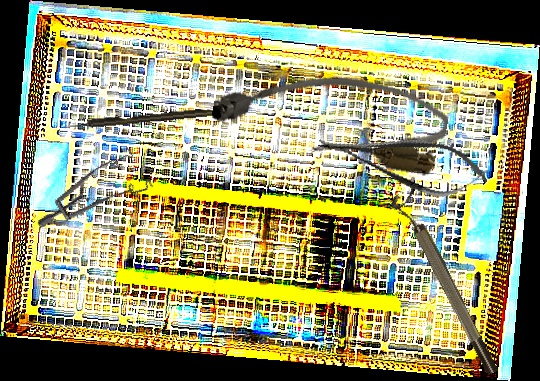Cannula: (208, 51, 453, 179)
Fixation Ring: (388, 187, 502, 381)
Hook Surgical: (62, 104, 249, 131)
Micro Scissor: (313, 113, 493, 209)
Speculum: (35, 127, 165, 267)
